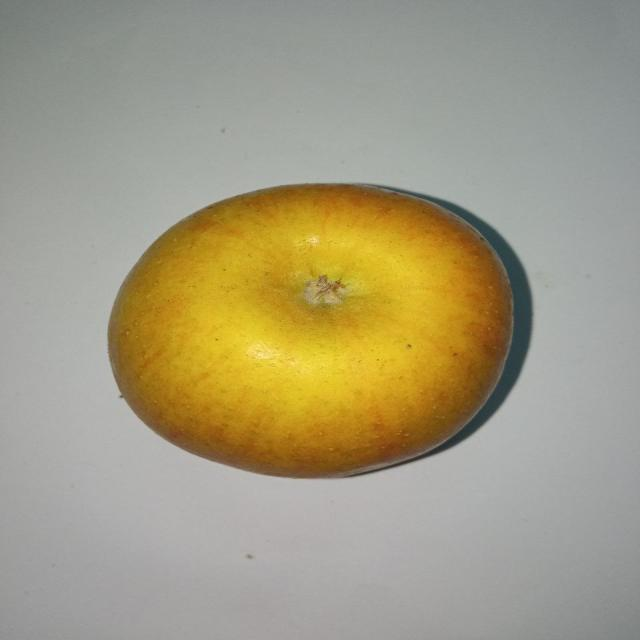fresh_apple: (104, 180, 520, 478)
